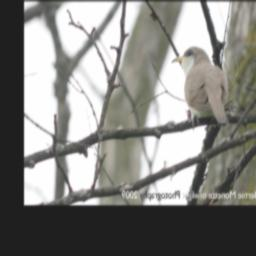Cuckoo: (172, 46, 230, 129)
